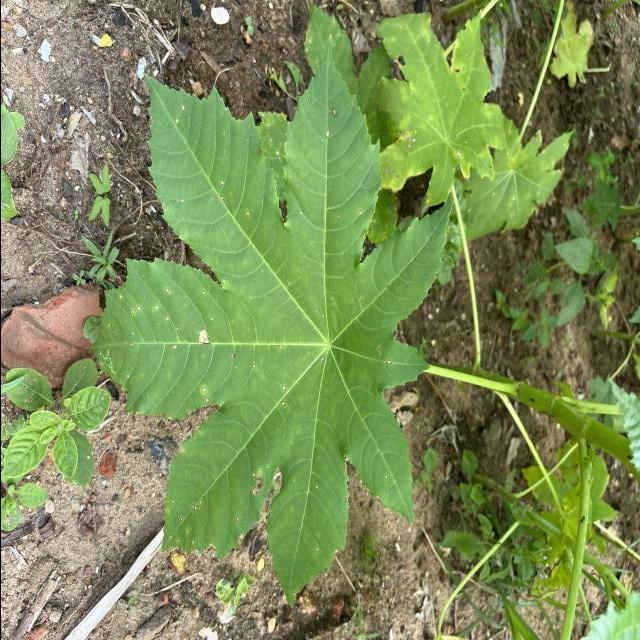Ricinus communis linn: (80, 28, 458, 610)
